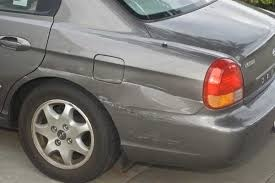Dent: (129, 77, 210, 115), (27, 66, 76, 78)
Scratch: (129, 131, 186, 149), (94, 94, 132, 115)
